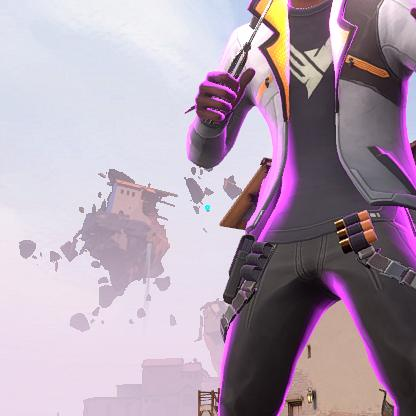enemyBody: (257, 12, 396, 214)
